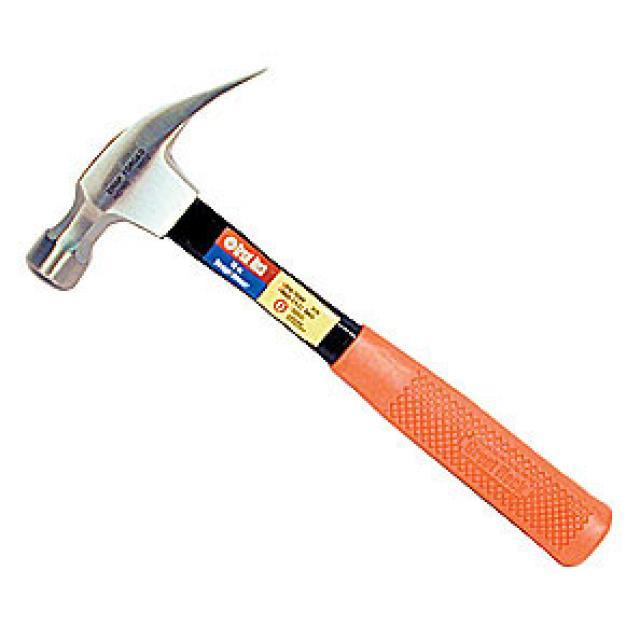hammer: (13, 52, 620, 590)
